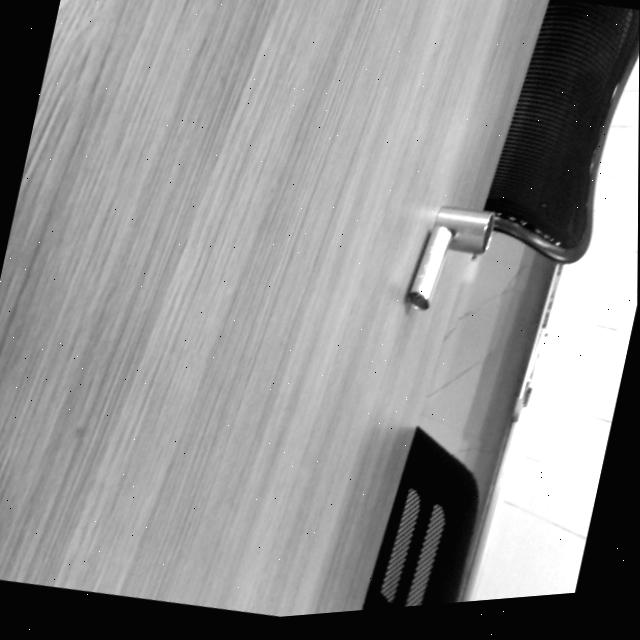Co_Lon: (432, 204, 495, 255)
Co_Nho: (404, 222, 455, 311)
